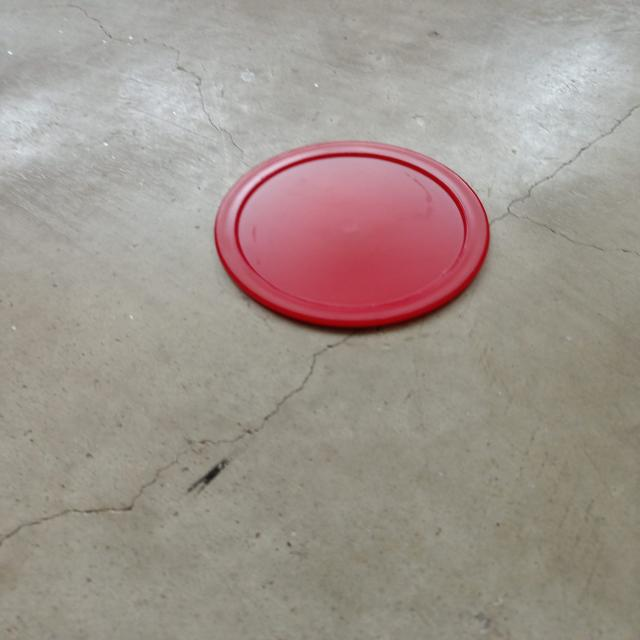chip: (209, 139, 493, 327)
